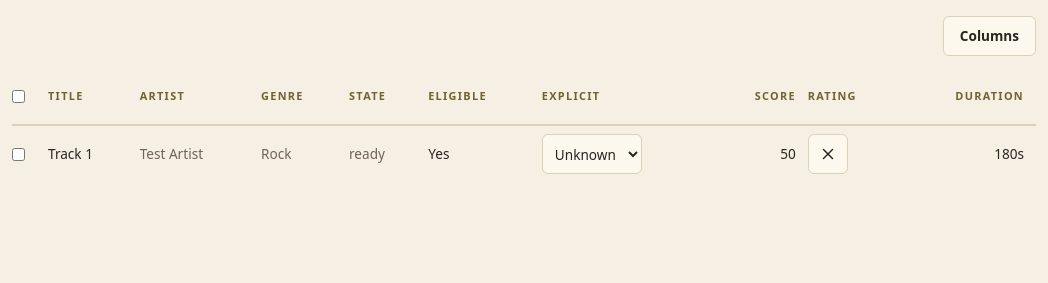
Test case: Feature: catalog moods column and filter › Scenario: the moods column › appears in the column-visibility toggle
Step 1. Click the button "Columns" → (989, 36), box [943, 16, 1036, 56]
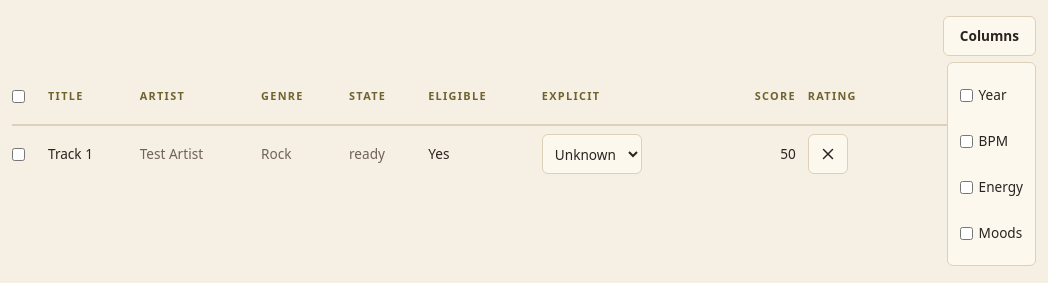
Expected: the checkbox labelled "Moods" is shown, [960, 226, 973, 240]
